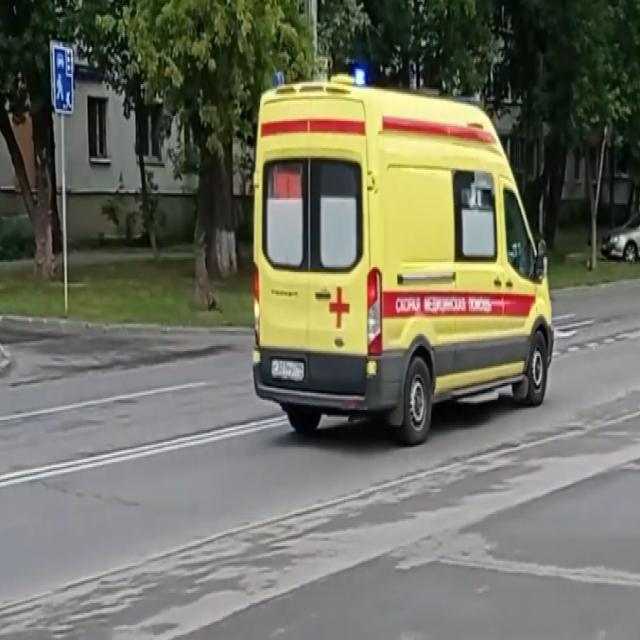intensive care unit: (254, 66, 554, 449)
non emergency car: (603, 205, 640, 267)
